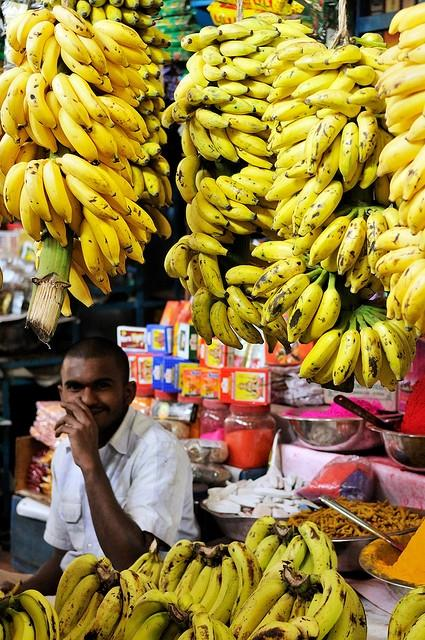banana: (229, 580, 289, 640), (298, 311, 350, 379), (358, 306, 417, 363), (60, 164, 119, 221), (266, 266, 322, 324), (58, 72, 115, 128), (287, 268, 329, 344), (298, 271, 341, 344), (362, 314, 408, 382), (228, 540, 263, 626), (308, 208, 358, 268), (292, 207, 352, 256), (54, 554, 100, 616), (251, 258, 322, 298), (124, 589, 178, 640), (58, 574, 101, 638), (158, 539, 206, 594), (56, 154, 116, 198), (310, 569, 347, 640), (298, 180, 344, 237), (86, 160, 132, 216), (81, 202, 120, 268), (8, 589, 57, 640), (207, 544, 238, 624), (58, 107, 100, 166), (111, 570, 146, 640), (79, 585, 123, 640), (52, 74, 93, 133), (239, 287, 288, 336), (376, 129, 425, 177), (247, 591, 294, 640), (100, 94, 150, 139), (72, 238, 111, 295), (46, 85, 78, 154), (64, 585, 104, 640), (28, 82, 58, 154), (298, 521, 338, 574), (266, 115, 323, 152), (387, 585, 425, 640), (332, 312, 360, 386), (336, 208, 366, 276), (252, 299, 291, 351), (393, 258, 425, 320), (314, 128, 344, 194), (356, 314, 382, 388), (43, 158, 72, 224), (311, 112, 347, 162), (17, 9, 56, 54), (26, 73, 57, 129), (92, 19, 148, 50), (99, 160, 140, 202), (210, 298, 243, 350), (60, 46, 104, 85), (265, 167, 314, 202), (292, 175, 320, 236), (191, 287, 220, 345), (90, 26, 130, 68), (25, 160, 52, 222), (304, 89, 361, 118), (54, 23, 92, 66), (43, 182, 68, 247), (74, 31, 110, 76), (85, 116, 120, 162), (375, 247, 425, 279), (96, 96, 140, 132), (80, 217, 104, 282), (401, 267, 425, 332), (118, 197, 158, 236), (327, 588, 357, 640), (104, 120, 140, 163), (378, 64, 421, 100), (226, 126, 274, 158), (385, 90, 425, 128), (174, 552, 205, 600), (175, 153, 204, 204), (198, 252, 230, 298), (190, 251, 220, 300), (306, 342, 341, 384), (0, 128, 30, 177), (360, 128, 384, 189), (26, 20, 55, 70), (3, 162, 28, 220), (62, 175, 85, 238), (291, 70, 339, 100), (226, 286, 261, 327), (52, 4, 94, 38), (199, 552, 222, 614), (227, 306, 264, 344), (191, 197, 226, 236), (374, 61, 418, 92), (371, 226, 423, 252), (7, 72, 32, 126), (367, 210, 388, 274), (271, 188, 303, 230), (350, 233, 372, 294), (194, 190, 230, 227), (216, 176, 260, 206), (20, 182, 42, 242), (250, 241, 310, 263), (190, 116, 220, 159), (403, 144, 425, 202), (272, 66, 327, 89), (0, 605, 36, 640), (68, 260, 94, 308), (6, 10, 35, 53), (230, 142, 274, 170), (339, 122, 359, 182), (272, 98, 323, 121), (356, 110, 378, 163), (0, 67, 27, 110), (398, 184, 425, 227), (346, 86, 386, 115), (109, 206, 133, 254), (209, 128, 241, 164), (244, 516, 276, 552), (388, 159, 414, 203), (304, 119, 324, 176), (252, 534, 280, 574), (132, 612, 172, 640), (188, 558, 212, 604), (256, 560, 294, 589), (40, 35, 60, 90), (214, 197, 258, 222), (142, 204, 172, 240), (221, 112, 270, 134), (280, 534, 308, 572), (188, 232, 231, 256), (240, 203, 276, 231), (231, 174, 273, 198), (293, 50, 343, 70), (250, 621, 304, 639), (352, 48, 392, 72), (200, 178, 230, 210), (278, 41, 328, 60), (1, 96, 21, 143), (397, 0, 425, 33), (170, 238, 192, 280), (186, 203, 213, 237), (260, 95, 294, 122), (221, 213, 264, 234), (262, 540, 287, 576), (189, 48, 212, 87), (274, 140, 306, 168), (195, 106, 232, 130), (266, 76, 299, 102), (380, 345, 398, 392), (407, 188, 425, 235), (119, 64, 149, 92), (110, 80, 140, 108), (230, 95, 270, 116), (324, 44, 362, 66), (104, 56, 130, 88), (274, 190, 300, 222), (216, 56, 248, 81), (214, 96, 256, 115), (327, 64, 355, 92), (225, 265, 264, 285), (172, 97, 202, 123), (117, 43, 152, 65), (398, 22, 425, 50), (124, 228, 145, 264), (388, 6, 414, 35), (388, 112, 422, 134), (237, 29, 281, 46), (182, 114, 199, 157), (342, 160, 364, 193), (290, 616, 320, 640), (232, 56, 267, 76), (127, 160, 144, 201), (123, 23, 156, 44), (216, 24, 254, 42), (192, 612, 216, 640), (124, 218, 148, 246), (140, 165, 161, 197), (239, 166, 276, 184), (237, 79, 272, 98), (320, 242, 342, 272), (219, 40, 260, 56), (135, 108, 161, 133), (148, 175, 166, 211), (374, 207, 402, 230), (343, 66, 375, 86), (97, 148, 126, 170), (233, 18, 278, 32), (174, 73, 196, 101), (287, 592, 306, 624), (201, 86, 233, 105), (284, 159, 316, 178), (180, 33, 212, 52), (146, 154, 171, 178), (360, 274, 383, 300), (210, 618, 237, 640), (348, 33, 387, 48), (195, 158, 212, 192), (164, 242, 180, 278), (271, 23, 309, 38), (217, 78, 250, 95), (15, 140, 38, 164), (281, 20, 315, 36), (404, 613, 424, 640), (202, 44, 226, 66), (374, 174, 390, 207), (353, 347, 366, 387), (405, 116, 425, 142), (266, 53, 296, 70), (162, 100, 179, 130), (159, 618, 182, 640), (377, 44, 399, 66), (261, 49, 284, 70), (136, 552, 156, 576), (127, 552, 151, 572), (148, 28, 171, 48), (199, 26, 223, 45), (258, 36, 296, 48), (0, 194, 15, 224), (148, 554, 162, 586), (136, 572, 158, 592), (147, 78, 167, 100), (134, 9, 156, 29), (186, 261, 198, 297), (202, 63, 226, 81), (101, 2, 122, 22), (212, 228, 238, 244), (185, 88, 208, 106), (251, 120, 274, 138), (405, 44, 425, 64), (136, 94, 154, 116), (386, 284, 397, 320), (300, 545, 312, 577), (93, 75, 113, 94), (252, 12, 281, 25), (103, 253, 118, 277), (148, 45, 166, 65), (10, 45, 26, 67), (140, 142, 162, 158), (177, 594, 194, 614), (301, 590, 314, 616), (90, 6, 106, 26), (150, 26, 166, 46), (121, 8, 139, 25), (144, 79, 161, 97), (19, 54, 34, 74), (177, 624, 195, 640), (61, 292, 72, 318), (116, 248, 126, 276), (390, 272, 404, 292), (1, 612, 12, 636), (150, 96, 166, 112), (144, 63, 161, 78), (76, 1, 91, 18), (156, 127, 168, 146), (164, 590, 178, 606), (98, 557, 112, 572), (137, 64, 150, 79), (345, 268, 352, 288), (173, 630, 185, 640), (149, 132, 159, 144), (128, 62, 140, 71), (276, 520, 288, 528), (58, 72, 70, 80), (180, 278, 188, 290), (282, 20, 303, 24)
